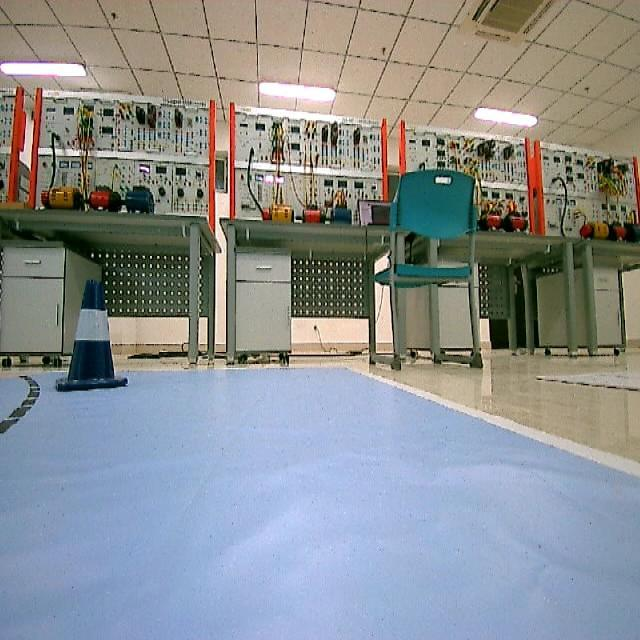obstacle: (59, 274, 152, 404)
